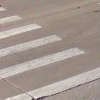crosswalk: (0, 6, 84, 77)
